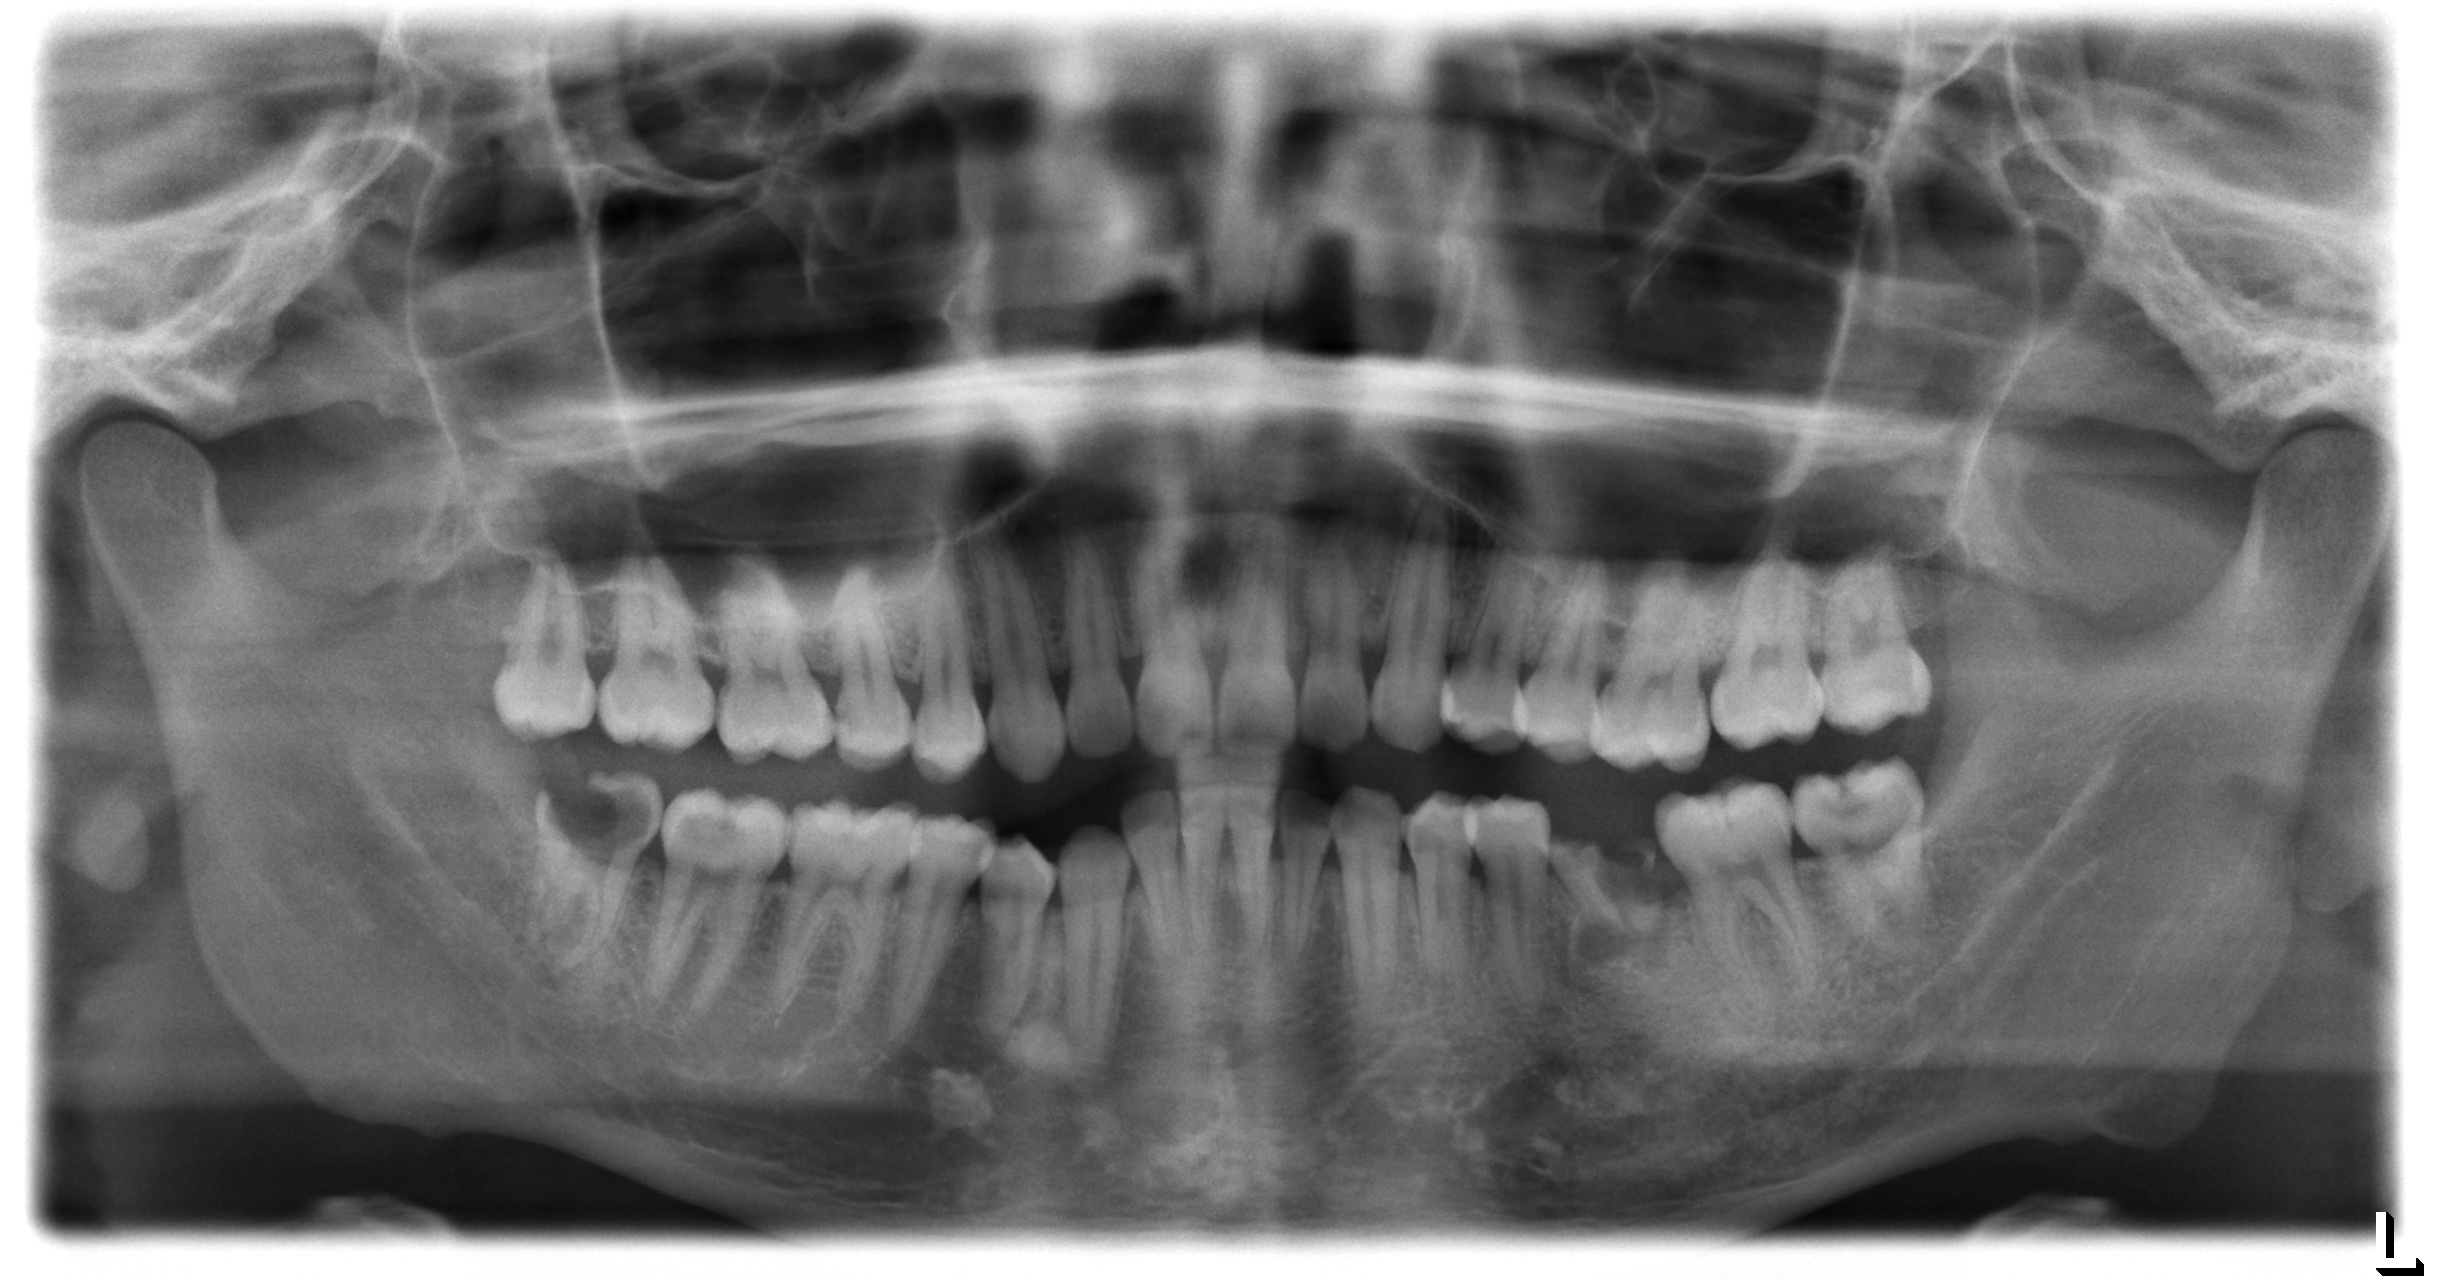Decay: (1536, 826, 1669, 936), (536, 768, 660, 855), (1817, 772, 1888, 847), (663, 793, 733, 864)
